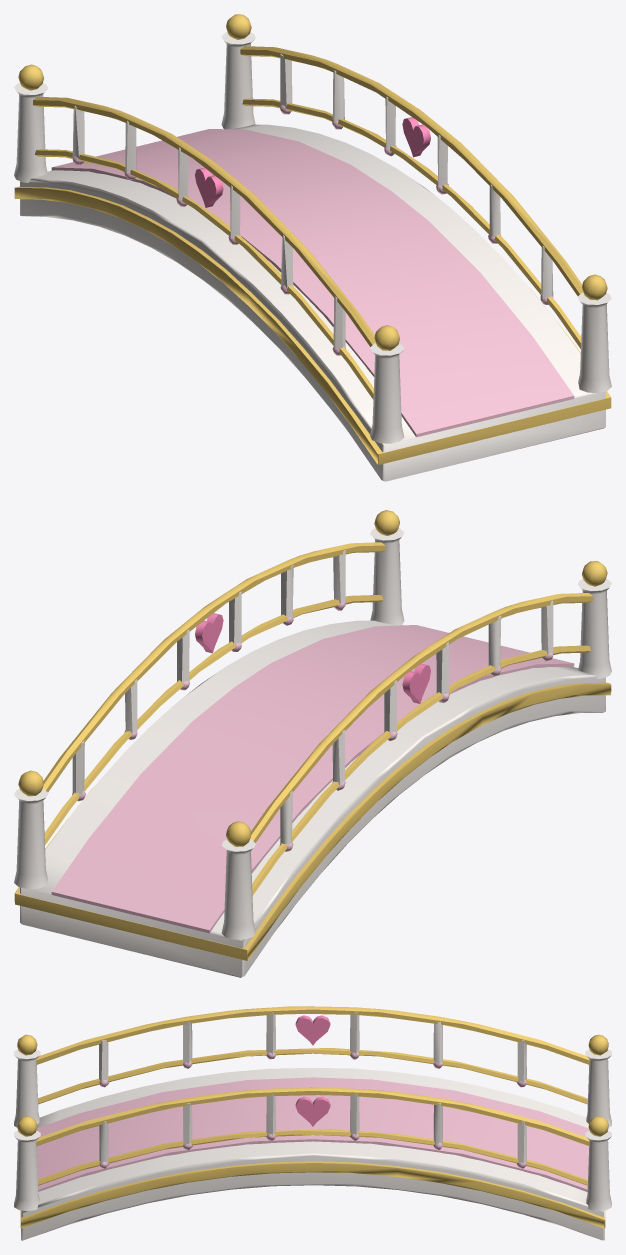
The model's file is bridge_small.glb.
3 renders of one model, top to bottom at view 1: azimuth 30°, elevation 25°; view 2: azimuth 150°, elevation 25°; view 3: azimuth 270°, elevation 25°, orthographic. The views are drawn at different scales.
Parts seen in each view (by area): view 1: bridge_small; view 2: bridge_small; view 3: bridge_small.
Boxes of the visible parts, <box> form: bridge_small: <box>14,14,611,481</box>; bridge_small: <box>14,510,611,977</box>; bridge_small: <box>14,1006,611,1240</box>.
Size of the model in its own units: 3.16 by 2.39 by 8.58.
